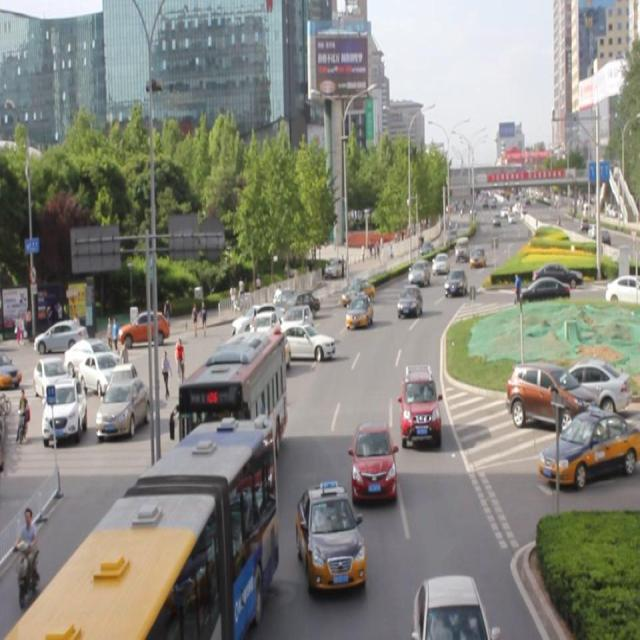car: (296, 483, 365, 591), (414, 572, 486, 640), (352, 421, 396, 503), (400, 364, 441, 443), (266, 321, 334, 362), (232, 303, 284, 337), (211, 345, 245, 395), (255, 335, 294, 376), (279, 304, 312, 350), (249, 311, 280, 354), (276, 290, 321, 318), (396, 282, 422, 320), (345, 294, 373, 326), (341, 277, 374, 304), (443, 267, 468, 296), (408, 259, 430, 287)
van: (9, 417, 277, 640), (180, 333, 288, 468)
